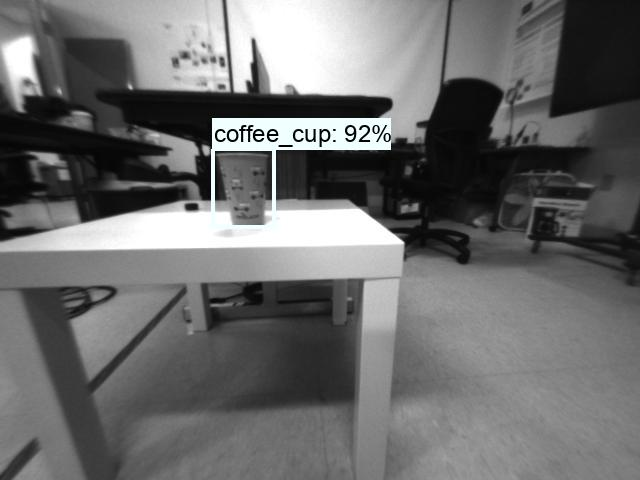coffee_cup: (214, 150, 273, 228)
